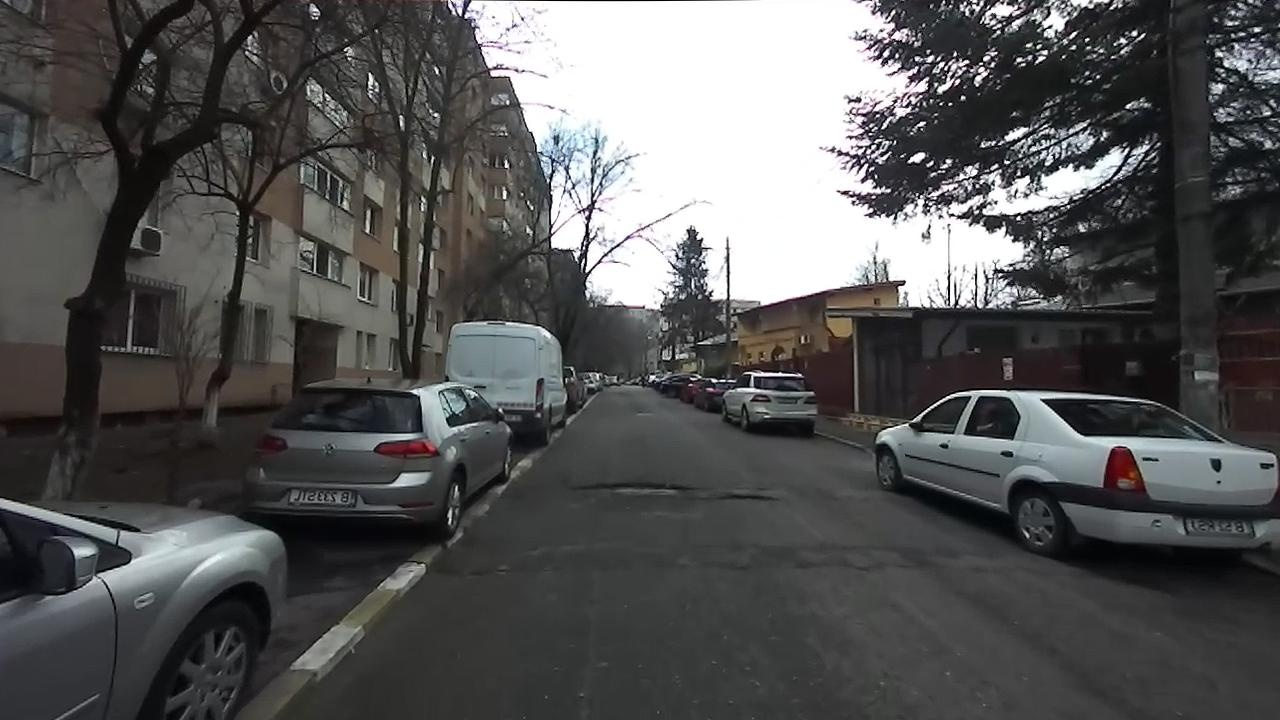pothole: (565, 477, 698, 500), (436, 564, 512, 586), (705, 491, 781, 505)
